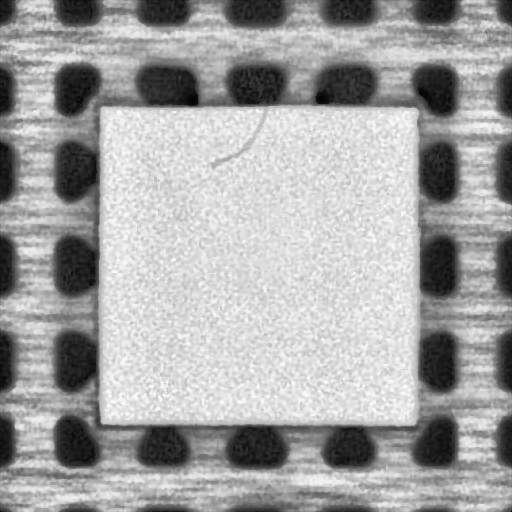DIE_CRACK: (212, 106, 270, 166)
